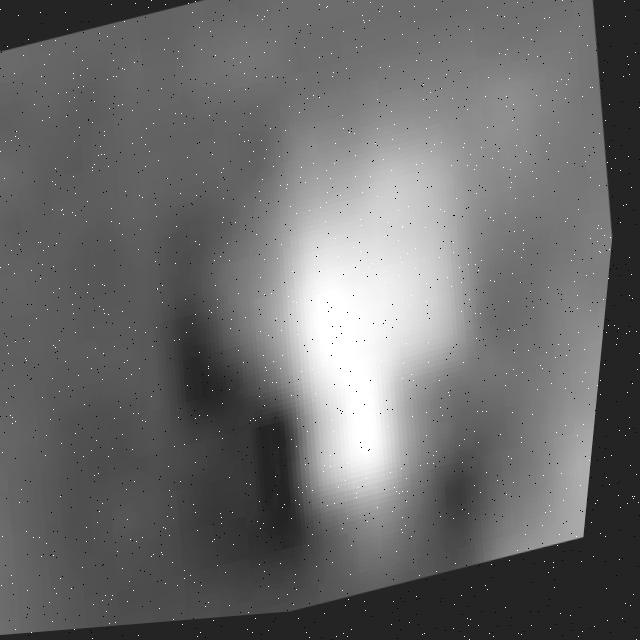person: (161, 49, 542, 578)
